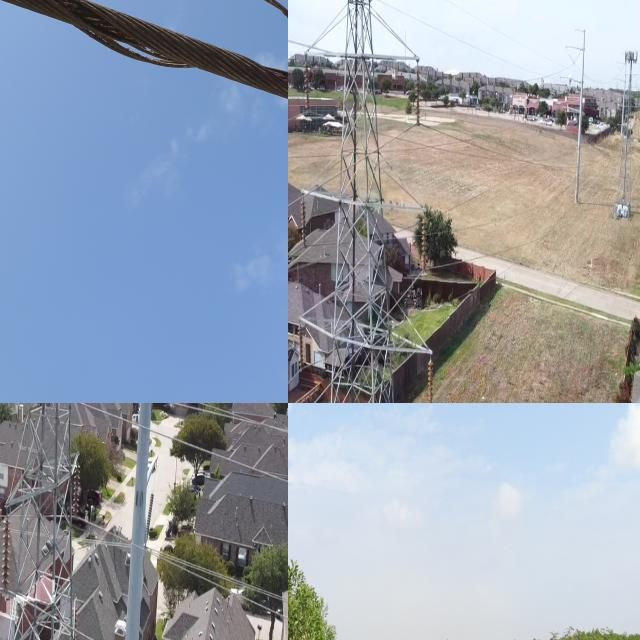杆塔: (297, 0, 425, 403), (0, 403, 80, 640), (611, 39, 640, 219)
正常电缆: (95, 518, 288, 610), (89, 403, 288, 489), (183, 403, 288, 440)
正常绝缘子: (409, 53, 428, 129), (295, 188, 314, 260), (292, 314, 312, 376), (416, 208, 432, 284), (0, 508, 13, 597), (300, 55, 314, 118), (71, 458, 81, 527), (425, 350, 438, 403)
电缆破损: (0, 0, 288, 127)
